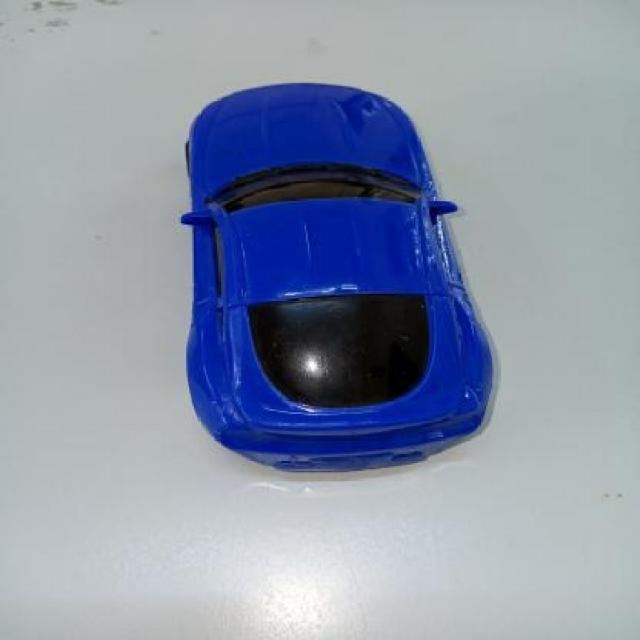vehicle: (168, 72, 504, 483)
